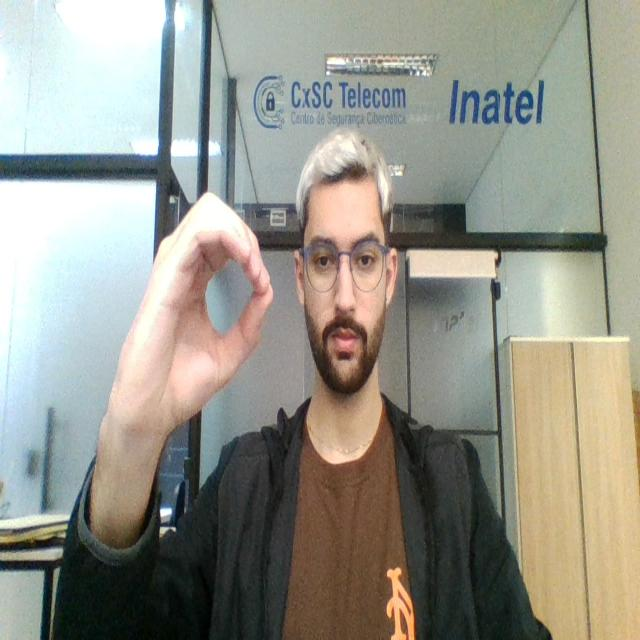O: (110, 190, 276, 423)
